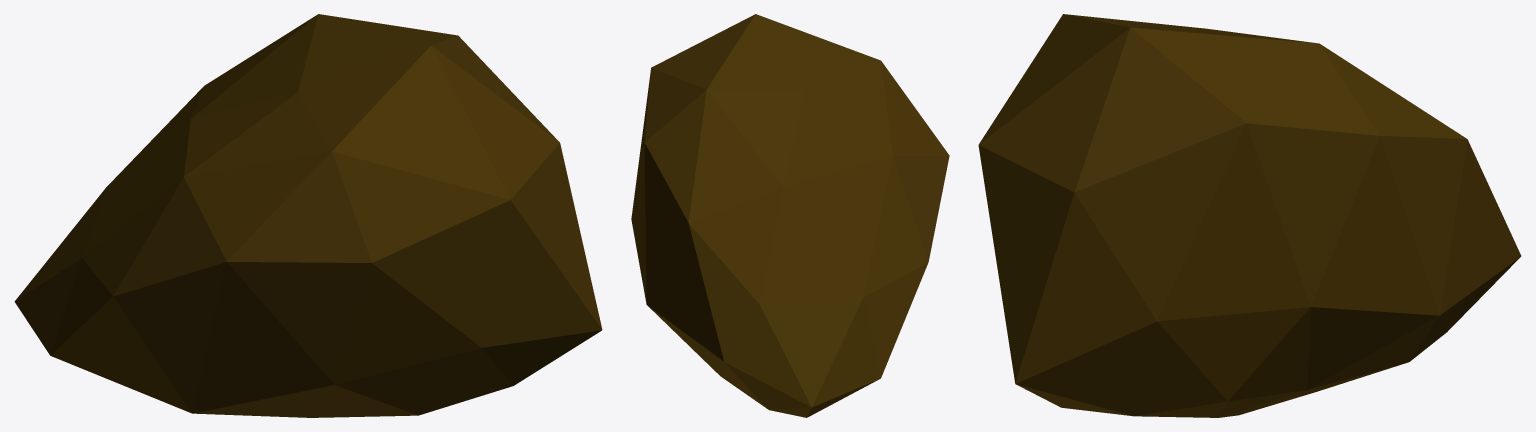
File: rock5.fbx
3 views of the same model, side by side, from view 1: azimuth 30°, elevation 25°; view 2: azimuth 150°, elevation 25°; view 3: azimuth 270°, elevation 25° (orthographic). The views are drawn at different scales.
Visible parts, largest first — view 1: rock6:Mesh; view 2: rock6:Mesh; view 3: rock6:Mesh.
Boxes of the visible parts, x1,y1,x2,y2 form: rock6:Mesh: (14, 14, 602, 417); rock6:Mesh: (631, 14, 949, 417); rock6:Mesh: (978, 14, 1521, 417).
Bounding box in the file's own units: 0.802 × 0.7434 × 0.8963.
